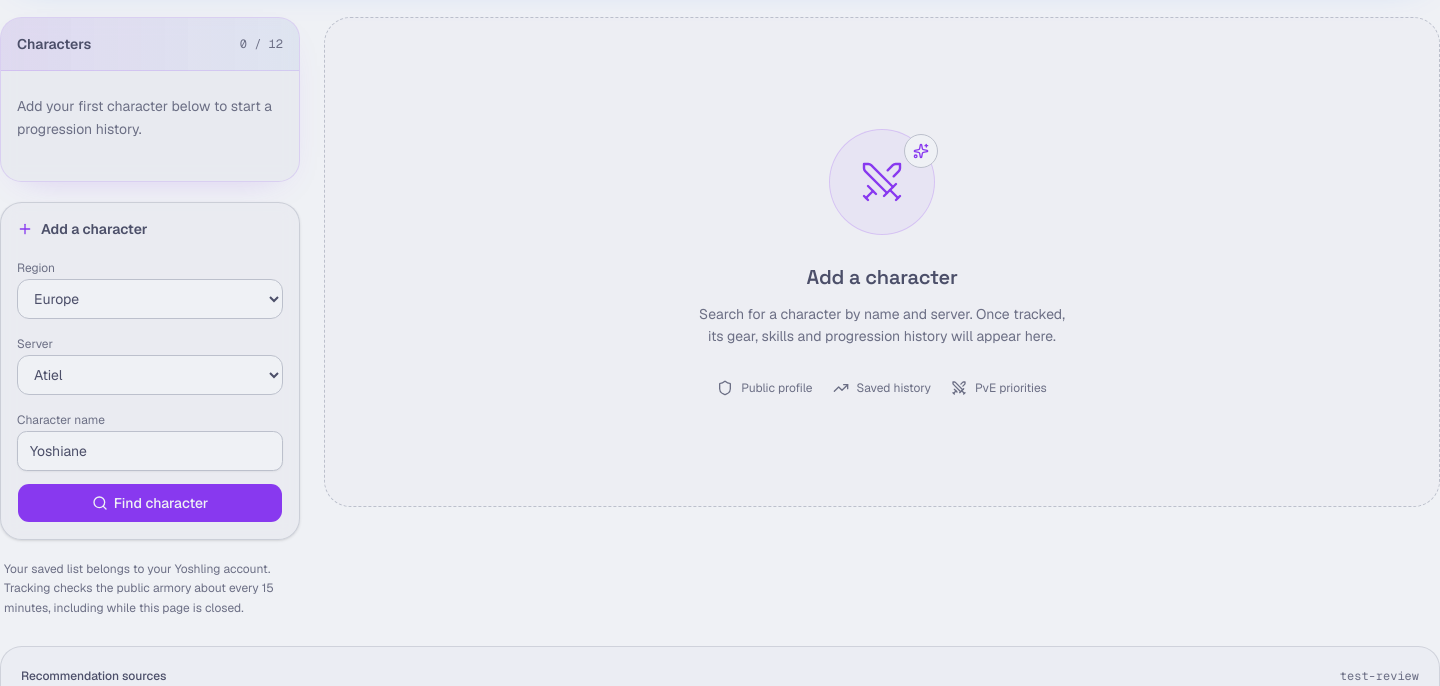
does not accept a malformed add receipt as a saved character and rechecks canonical state
(page scrolled)
Click the button "Find character" at [150, 503], box [17, 483, 283, 523]
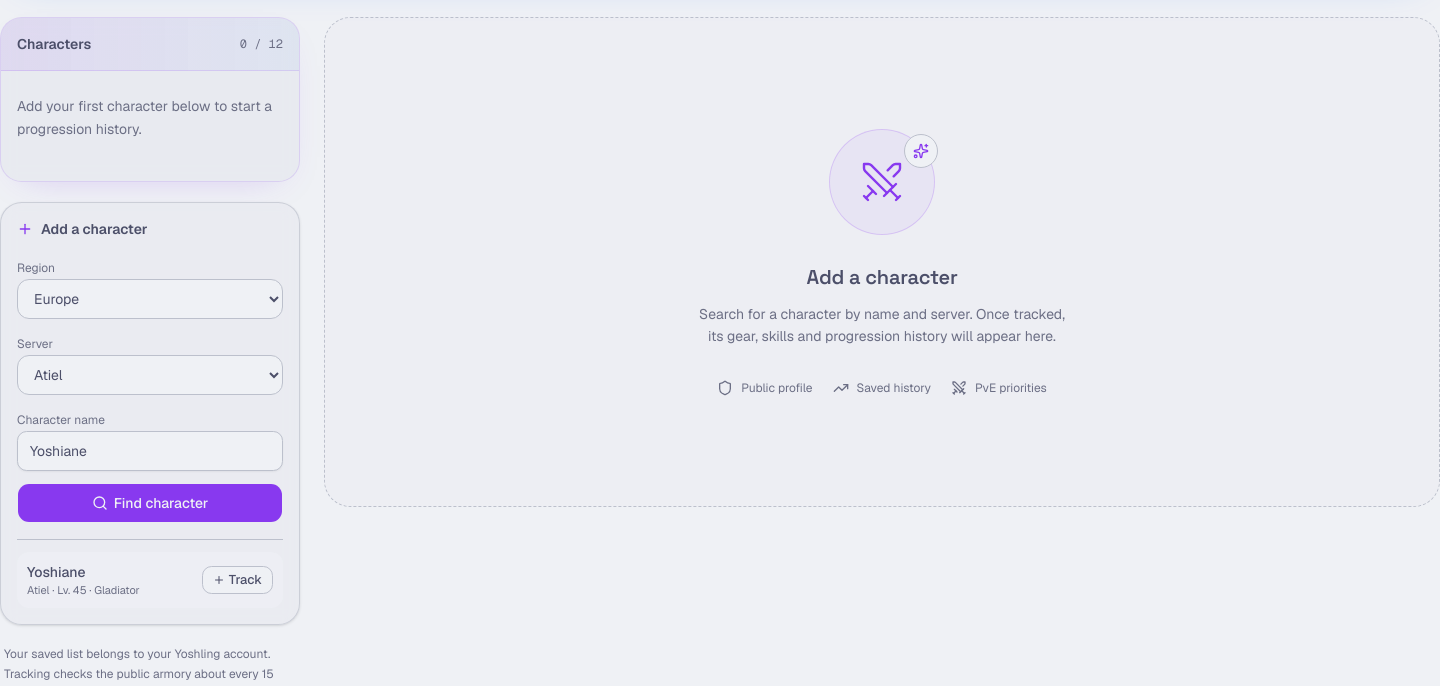
Click the button with aria-label "Track Yoshiane on Atiel" at [237, 580], box [202, 566, 273, 594]
(page scrolled)
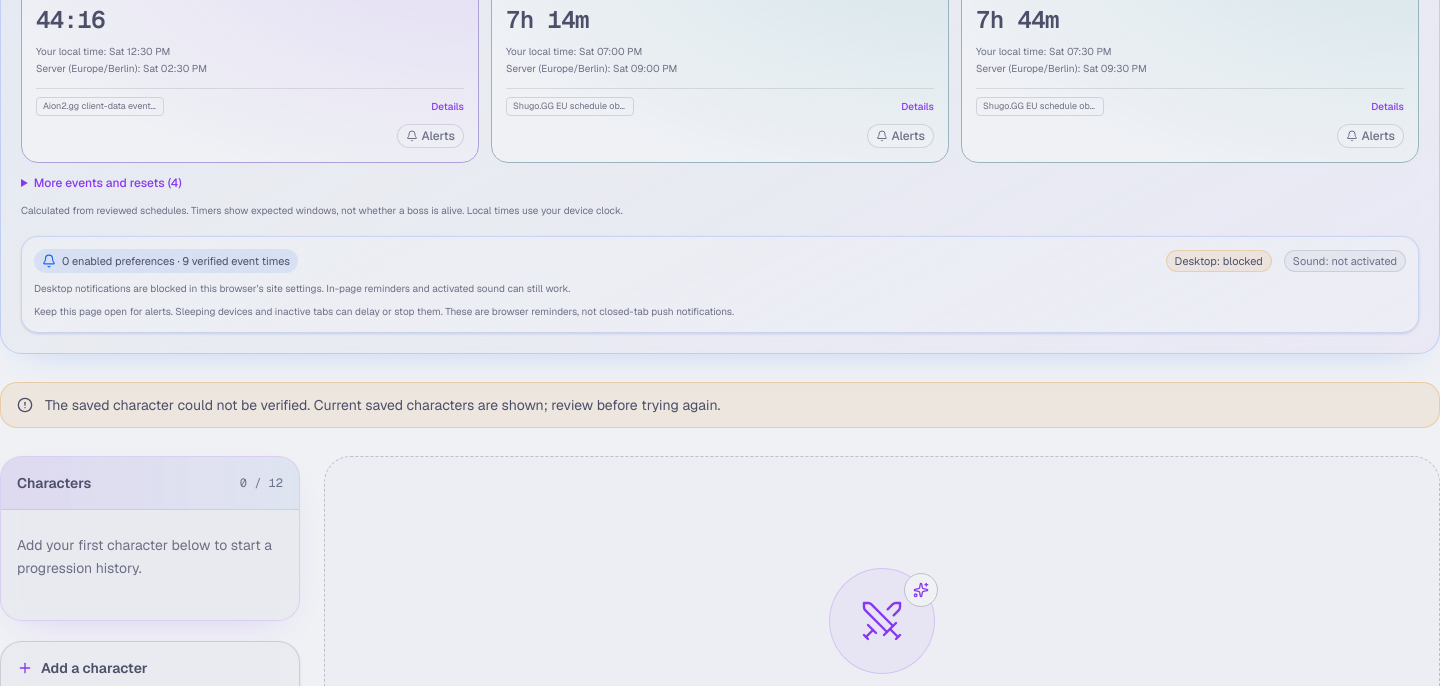
Now the text "The saved character could not be verified. Current saved characters are shown" is shown, box [45, 396, 720, 414]
